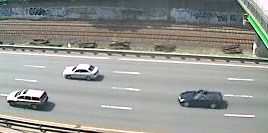car: (5, 87, 50, 113), (175, 88, 224, 110), (61, 62, 102, 85)
